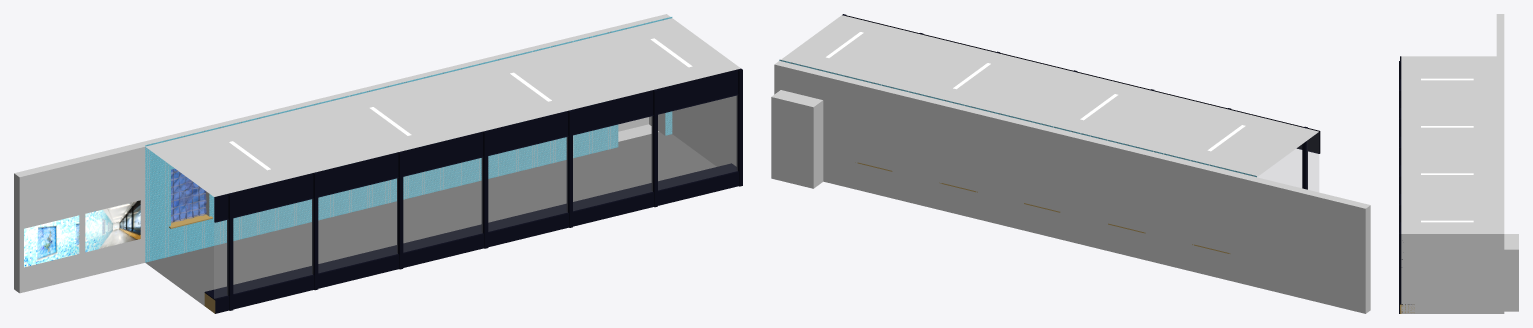
The model's file is ISSP001.glb.
3 renders of one model, left to right at view 1: azimuth 30°, elevation 25°; view 2: azimuth 150°, elevation 25°; view 3: azimuth 270°, elevation 25°, orthographic. The views are drawn at different scales.
Visible parts, largest first — view 1: Cube, wall, Fliizes.001, Cube.006, Cube.001, Cube.002, Empty.003, Empty.004, Plane.010, TV1.012, Cube.004, Cube.005; view 2: wall, Cube, Cube.004, Cube.006, Fliizes.001, Cube.005; view 3: Cube, wall, Cube.004, Cube.002, Cube.005, Cube.006.
Part boxes in pixels (x1,y1,x2,y2): Cube: (145, 14, 740, 305); wall: (14, 28, 615, 293); Fliizes.001: (145, 17, 672, 262); Cube.006: (214, 69, 738, 222); Cube.001: (204, 163, 738, 313); Cube.002: (227, 68, 742, 310); Empty.003: (85, 200, 140, 252); Empty.004: (24, 215, 79, 267); Plane.010: (171, 169, 206, 223); TV1.012: (171, 169, 204, 220); Cube.004: (618, 113, 665, 141); Cube.005: (229, 38, 692, 170); wall: (825, 73, 1370, 313); Cube: (774, 15, 1318, 285); Cube.004: (771, 90, 823, 188); Cube.006: (846, 15, 1320, 153); Fliizes.001: (779, 59, 1256, 177); Cube.005: (826, 32, 1245, 151); Cube: (1401, 56, 1504, 313); wall: (1496, 14, 1504, 214); Cube.004: (1504, 234, 1518, 311); Cube.002: (1399, 61, 1402, 313); Cube.005: (1421, 78, 1473, 222); Cube.006: (1400, 56, 1401, 232).
Size of the model in its own units: 23.62 by 4.07 by 5.44.
Materials: 14 (3 with a texture image).
